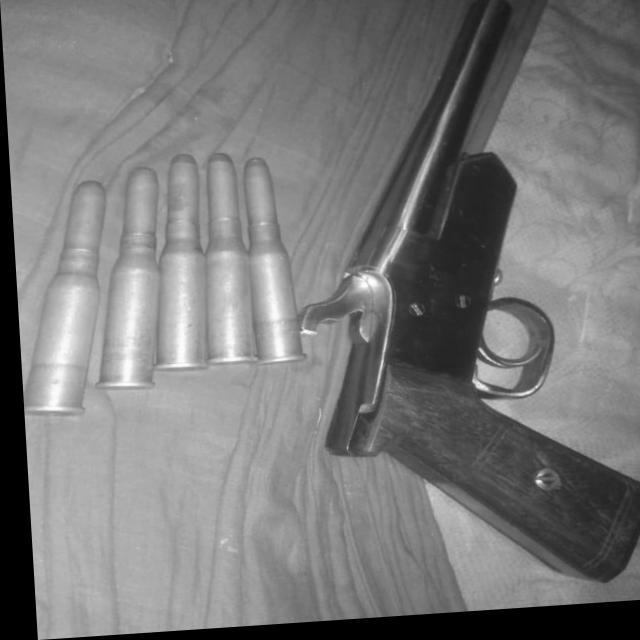weapon: (272, 0, 640, 611)
